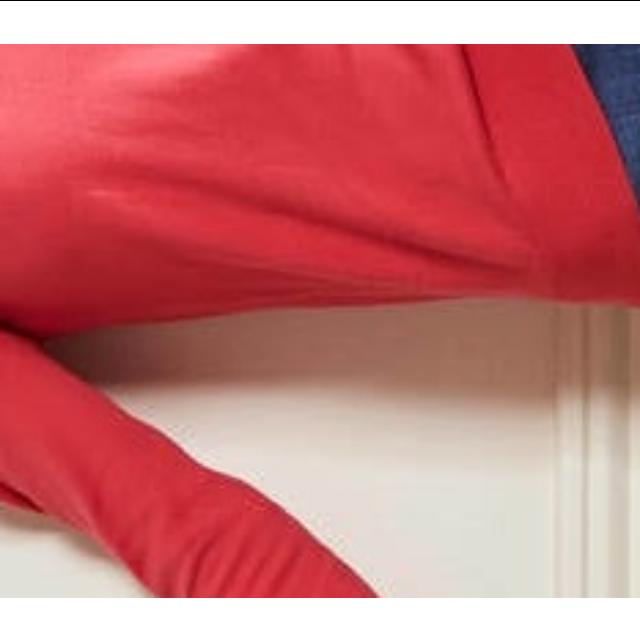cotton: (1, 43, 500, 391)
